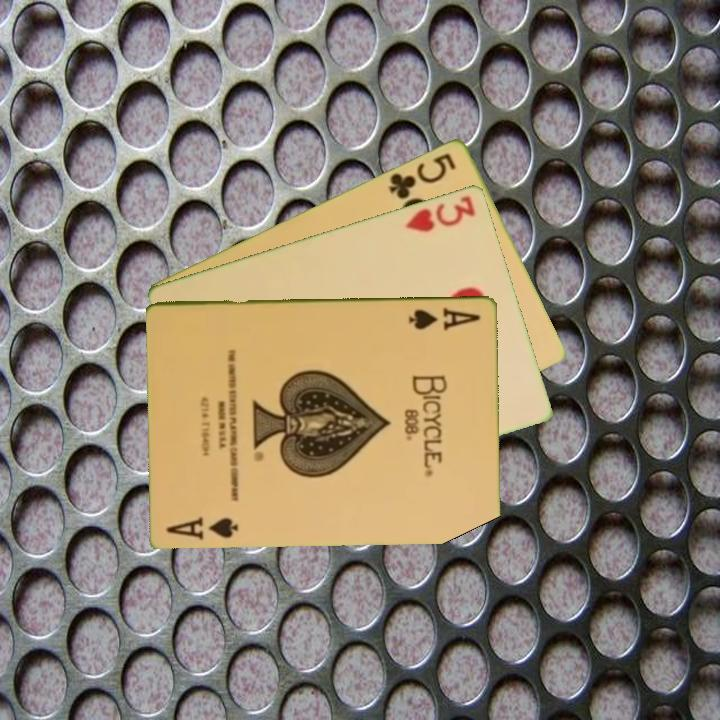3h: (401, 191, 479, 235)
5c: (385, 149, 459, 202)
As: (163, 513, 242, 542), (406, 304, 484, 333)
